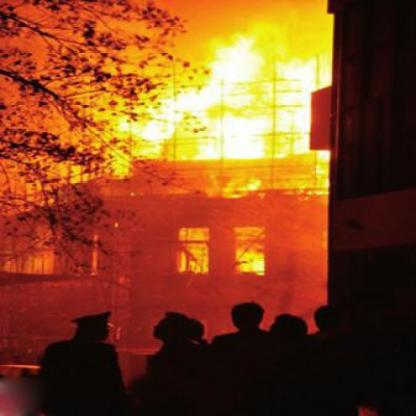fire: (70, 41, 326, 187), (173, 220, 275, 274)
